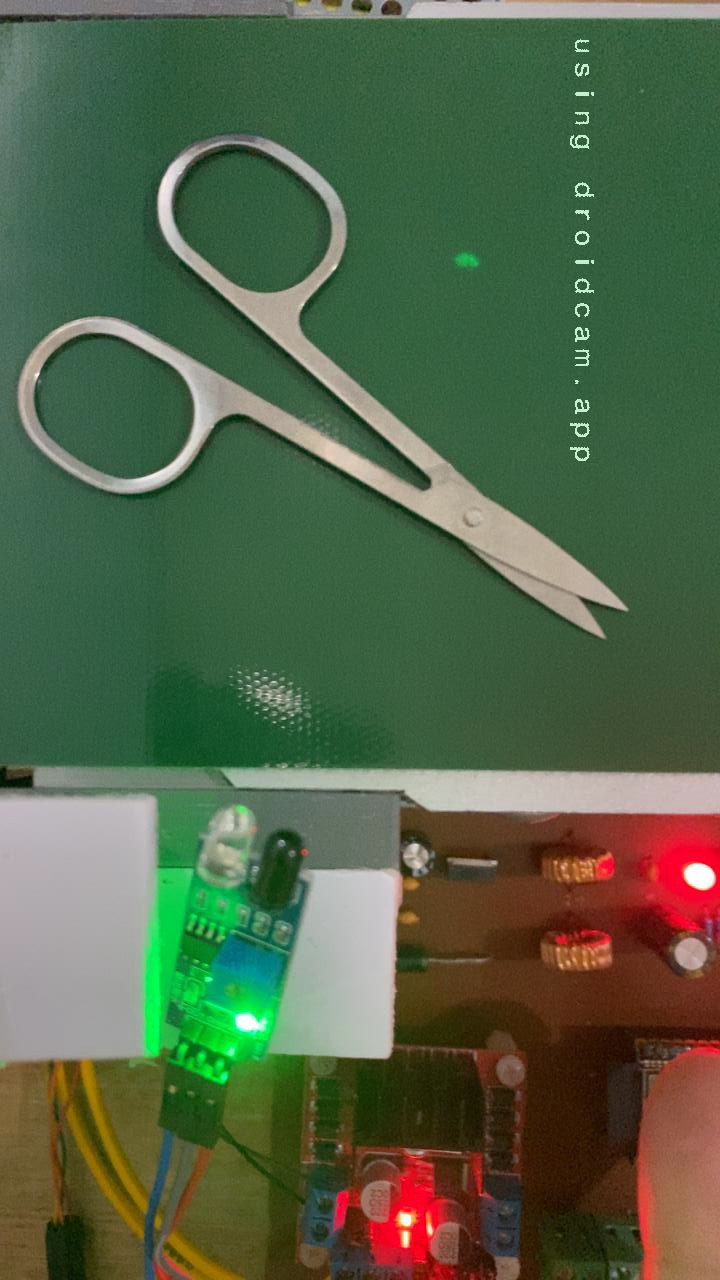scissor: (10, 128, 633, 646)
